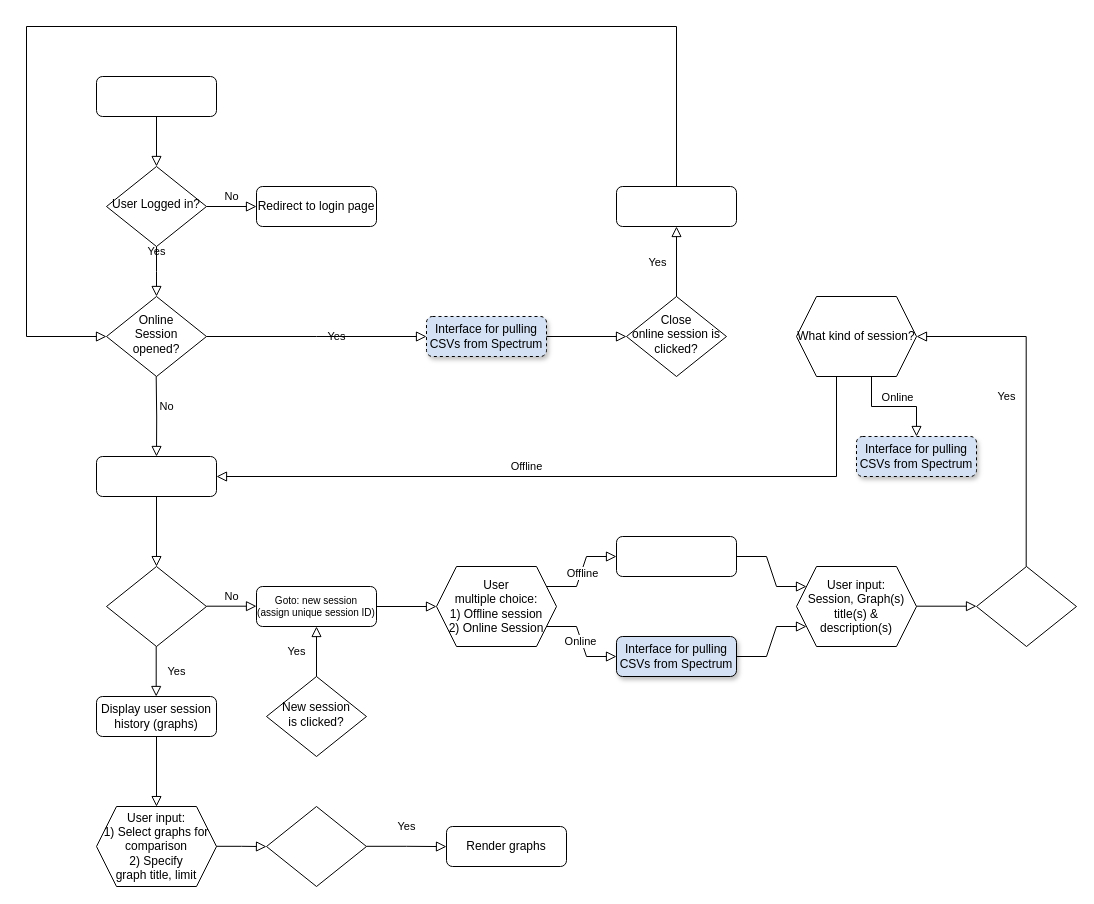
The diagram is 1094 pixels wide and 904 high, and some of its shapes have lost their labels. The shapes that lost their labels are listed below. From the top down, each one's centre as x and y in pixels, then its label:
point 156,96: User Enters "SE EMC Plotter" via browser
point 676,206: Close online session
point 156,476: redirect to index.html
point 676,556: Upload session csv files (multiple choice)
point 156,606: User has sessions history
point 1026,606: Successful Upload?
point 316,846: "Display selected" is clicked?
